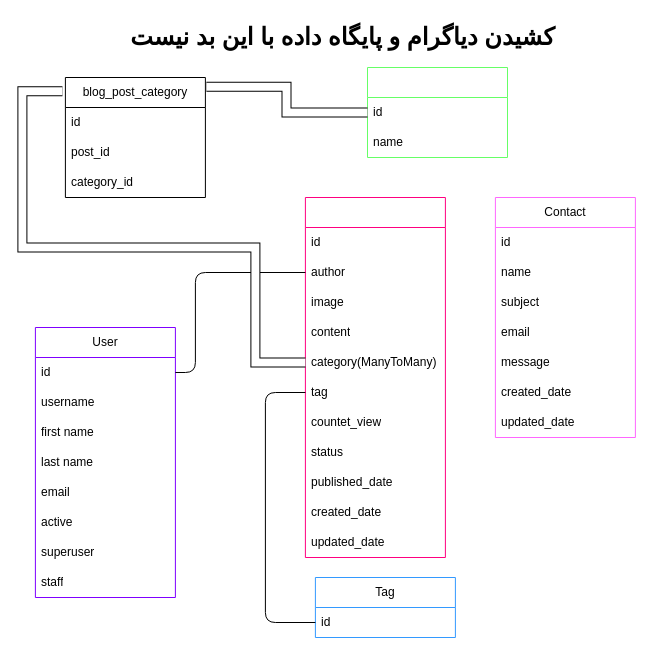
The diagram is 653 pixels wide and 655 high, and some of its shapes have lost their labels. Here are the shapes that lost their labels. From the top down, the box of each, then its label:
(366, 66, 508, 158): Category
(304, 196, 445, 558): Post
